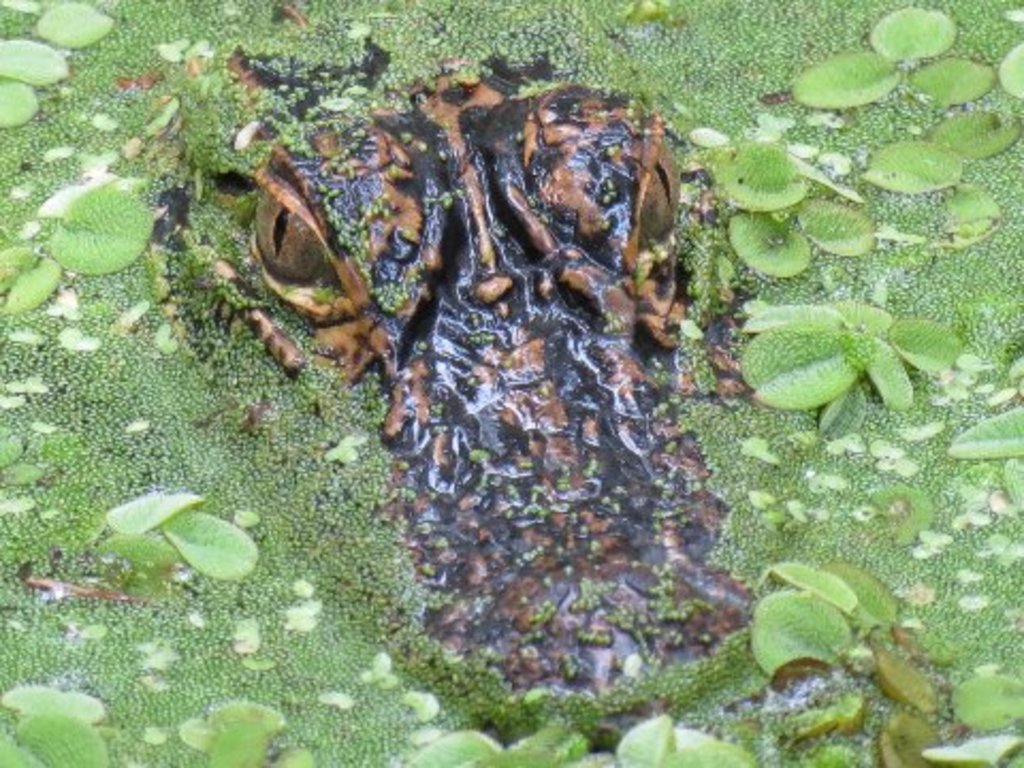Animal: (93, 0, 810, 764)
